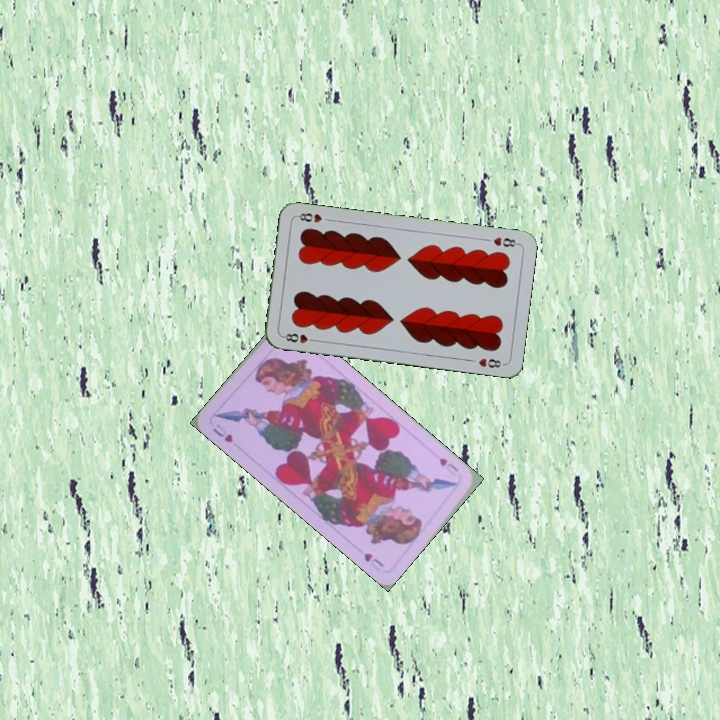H8: (279, 329, 319, 346), (489, 233, 521, 249)
HU: (209, 420, 236, 445), (435, 453, 461, 478)
